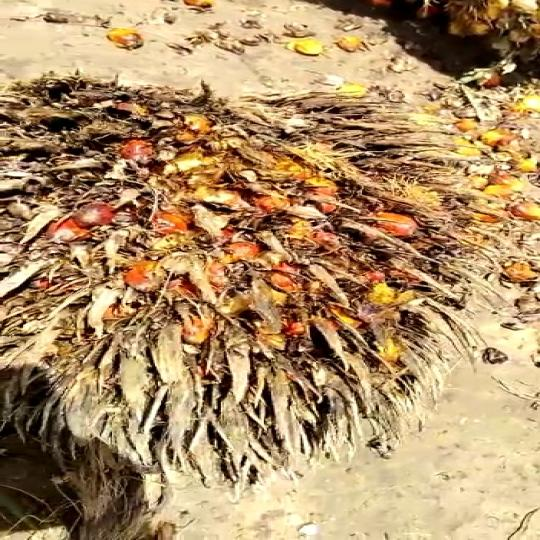terlalu masak: (0, 62, 488, 475)
